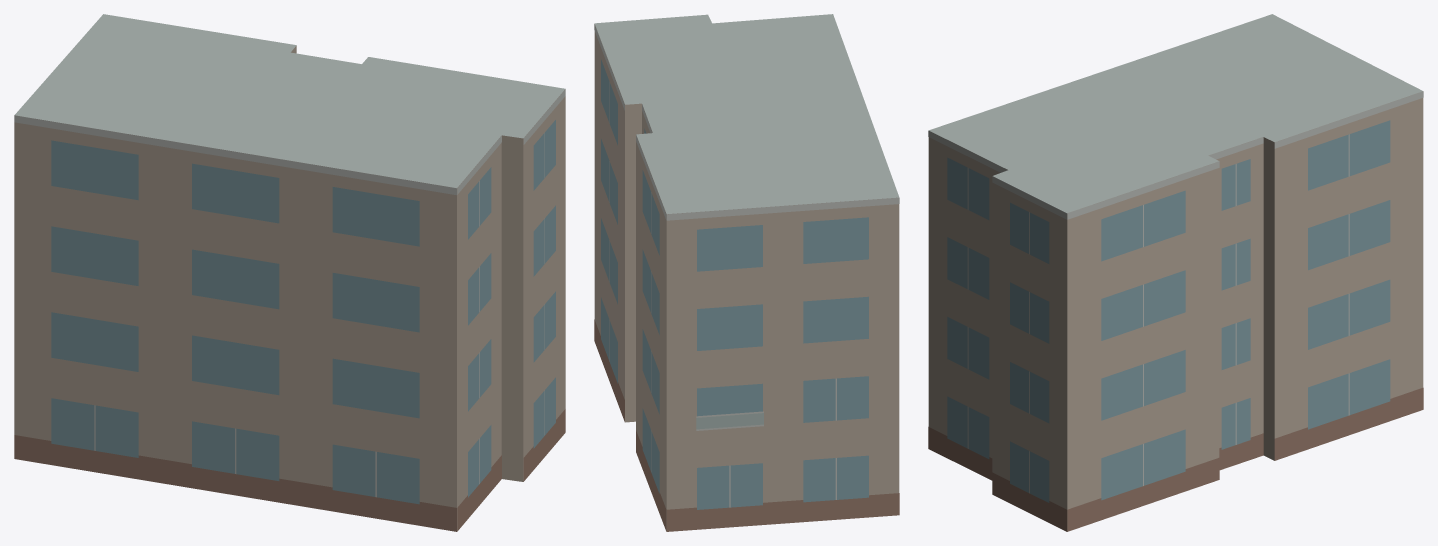
File: survey-upis-32764598.glb
The picture shows the model from 3 angles, left to right: view 1: azimuth 30°, elevation 25°; view 2: azimuth 150°, elevation 25°; view 3: azimuth 270°, elevation 25°; orthographic projection. The views are drawn at different scales.
Parts seen in each view (by area): view 1: survey-upis-32764598.tmp; view 2: survey-upis-32764598.tmp; view 3: survey-upis-32764598.tmp.
Boxes of the visible parts, left/top/right/bottom form: survey-upis-32764598.tmp: left=14, top=14, right=565, bottom=531; survey-upis-32764598.tmp: left=594, top=14, right=899, bottom=531; survey-upis-32764598.tmp: left=928, top=14, right=1423, bottom=531.
Bounding box in the file's own units: 15.94 × 11.87 × 16.72.
